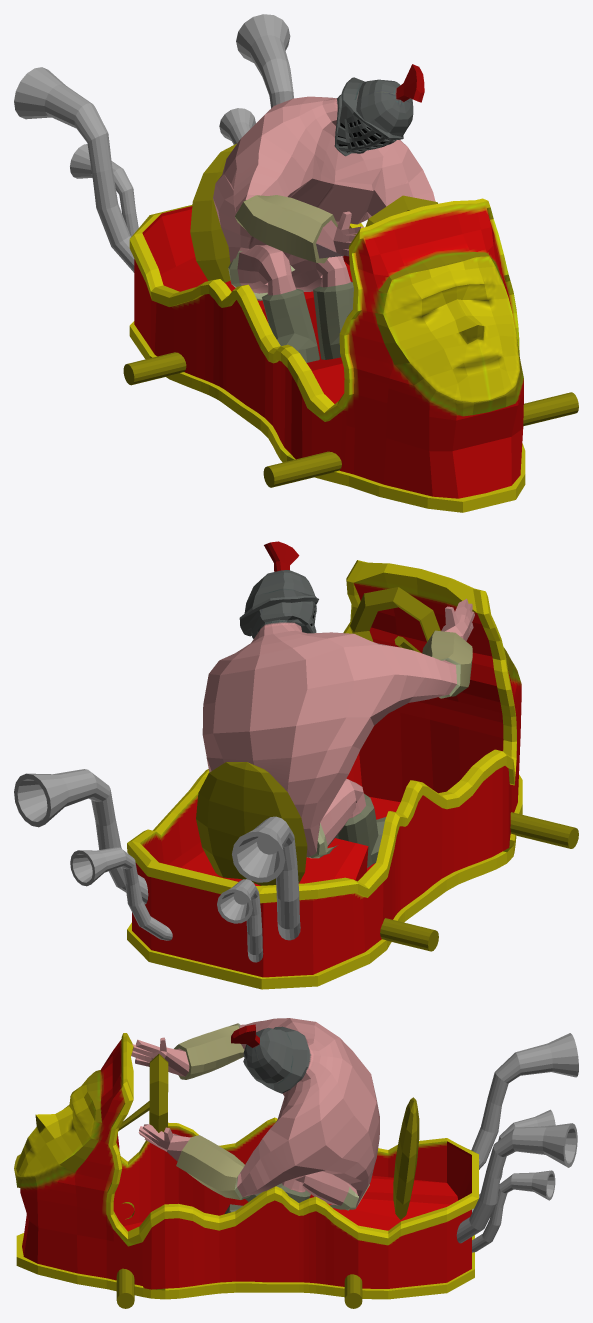
The model's file is GladiGiroIzq_000559.obj.
3 renders of one model, top to bottom at view 1: azimuth 30°, elevation 25°; view 2: azimuth 150°, elevation 25°; view 3: azimuth 270°, elevation 25°, orthographic. The views are drawn at different scales.
Parts seen in each view (by area): view 1: GladiChasis_GladiChasisH, Gadiador_Gladiador_H, GladiTubos_GladiTubosH, GladiVolante_GladiVolanteH; view 2: GladiChasis_GladiChasisH, Gadiador_Gladiador_H, GladiTubos_GladiTubosH, GladiVolante_GladiVolanteH; view 3: GladiChasis_GladiChasisH, Gadiador_Gladiador_H, GladiTubos_GladiTubosH, GladiVolante_GladiVolanteH.
Part boxes in pixels (left/top/right/bottom): GladiChasis_GladiChasisH: left=129, top=198, right=525, bottom=512; Gadiador_Gladiador_H: left=213, top=64, right=435, bottom=362; GladiTubos_GladiTubosH: left=14, top=14, right=293, bottom=272; GladiVolante_GladiVolanteH: left=123, top=143, right=578, bottom=487; GladiChasis_GladiChasisH: left=127, top=560, right=522, bottom=989; Gadiador_Gladiador_H: left=202, top=541, right=474, bottom=867; GladiTubos_GladiTubosH: left=14, top=769, right=300, bottom=962; GladiVolante_GladiVolanteH: left=196, top=587, right=578, bottom=951; GladiChasis_GladiChasisH: left=14, top=1033, right=478, bottom=1299; Gadiador_Gladiador_H: left=131, top=1018, right=379, bottom=1213; GladiTubos_GladiTubosH: left=456, top=1033, right=578, bottom=1252; GladiVolante_GladiVolanteH: left=116, top=1054, right=419, bottom=1308.
Size of the model in its own units: 5.46 by 5.44 by 10.78.
4 materials, 4 textured.
